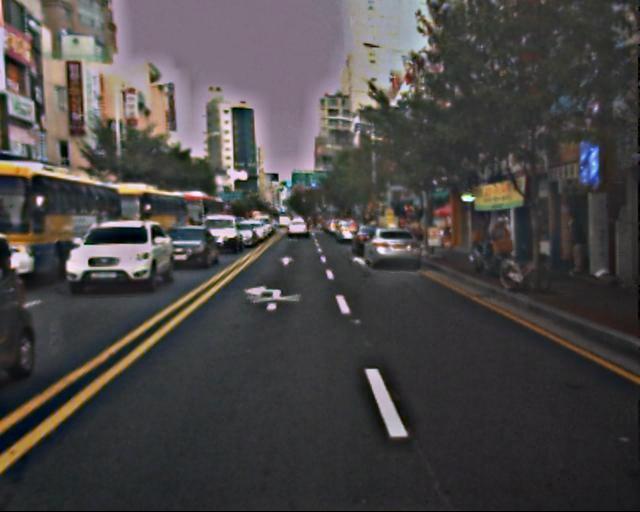person: (559, 214, 590, 281)
